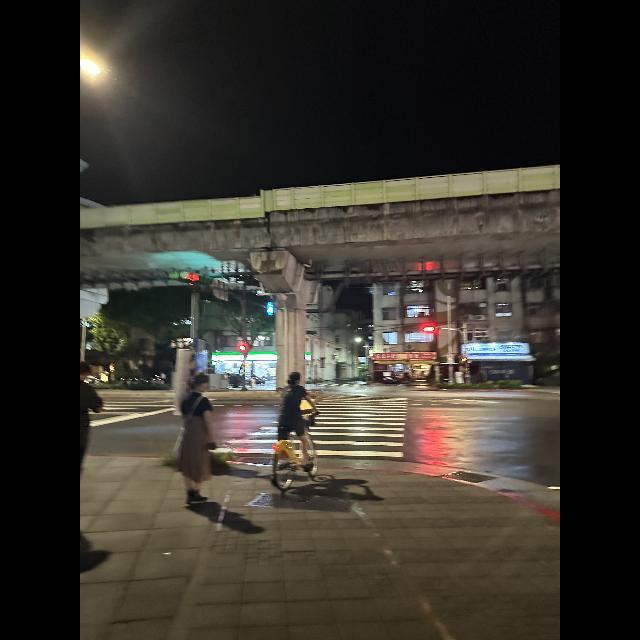sidewalk: (213, 392, 409, 462)
